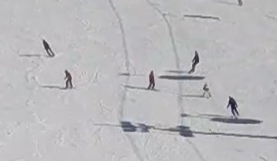skier: (56, 64, 85, 97), (221, 91, 246, 124), (139, 65, 163, 97), (35, 35, 62, 63), (197, 80, 218, 102)
snowboarder: (183, 46, 204, 77)
